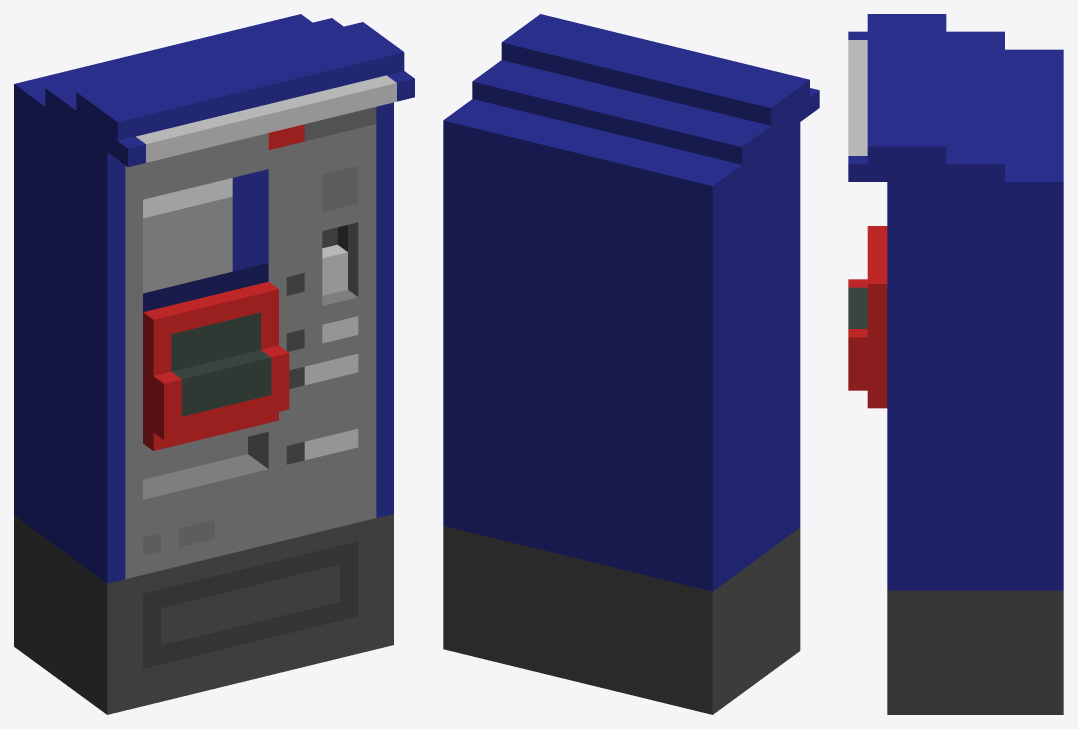
The model's file is ticketautomat.obj.
3 views of the same model, side by side, from view 1: azimuth 30°, elevation 25°; view 2: azimuth 150°, elevation 25°; view 3: azimuth 270°, elevation 25° (orthographic). The views are drawn at different scales.
Visible parts, largest first — view 1: all; view 2: all; view 3: all.
Part boxes in pixels (x1=…): all: x1=14, y1=14, x2=414, y2=714; all: x1=443, y1=14, x2=819, y2=714; all: x1=848, y1=14, x2=1063, y2=714.
Size of the model in its own units: 1.6 by 3.2 by 1.1.
1 material, 1 textured.
